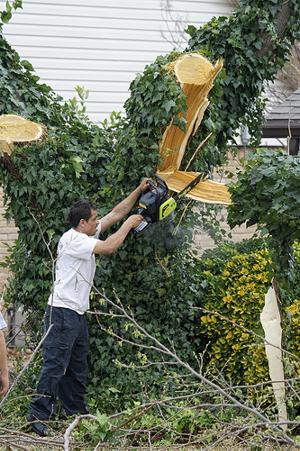person: (25, 177, 156, 439)
